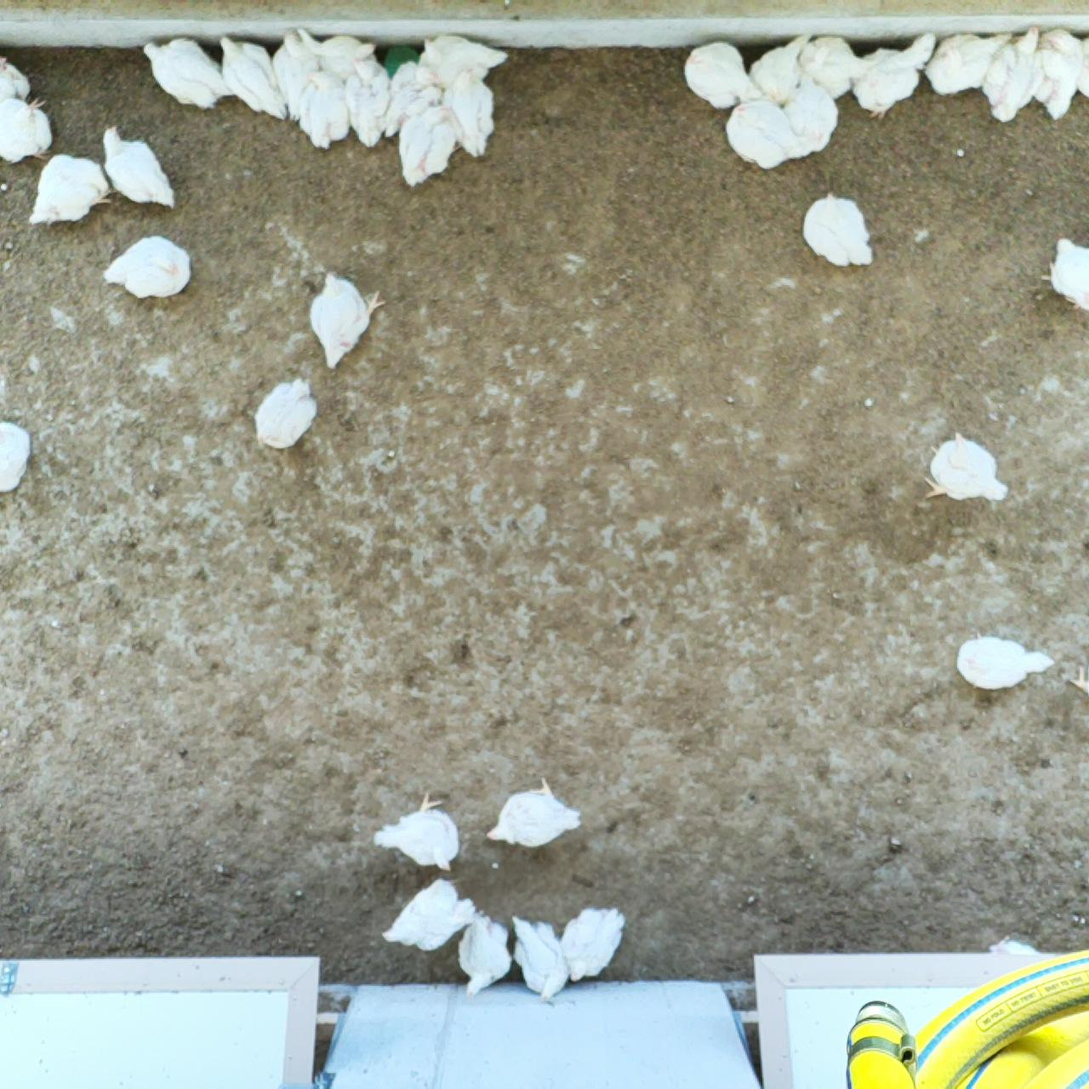chicken: (308, 269, 386, 372), (848, 34, 937, 122), (372, 795, 468, 876), (97, 123, 180, 212), (381, 877, 480, 949), (483, 778, 586, 846), (209, 34, 289, 120), (922, 430, 1016, 503), (978, 21, 1044, 123), (142, 39, 238, 109), (101, 232, 196, 302), (952, 631, 1057, 692), (22, 157, 107, 232), (924, 28, 1008, 100), (800, 195, 875, 272), (777, 71, 844, 157), (339, 54, 394, 155), (723, 97, 802, 167), (439, 68, 499, 159), (680, 40, 760, 108), (794, 32, 871, 102), (511, 917, 573, 1002), (412, 29, 504, 86), (249, 378, 323, 448), (560, 905, 626, 983), (395, 109, 456, 190), (384, 59, 439, 147), (270, 29, 322, 117), (746, 31, 812, 100), (458, 910, 512, 992), (297, 70, 351, 151), (1032, 38, 1083, 122), (295, 27, 378, 78), (1040, 234, 1089, 314), (0, 99, 59, 163), (1041, 26, 1089, 99), (0, 417, 34, 493), (0, 50, 36, 100), (986, 934, 1043, 962)
